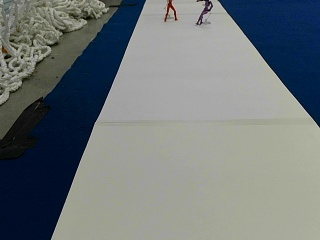pedestrian: (194, 0, 212, 24), (163, 0, 178, 21)
